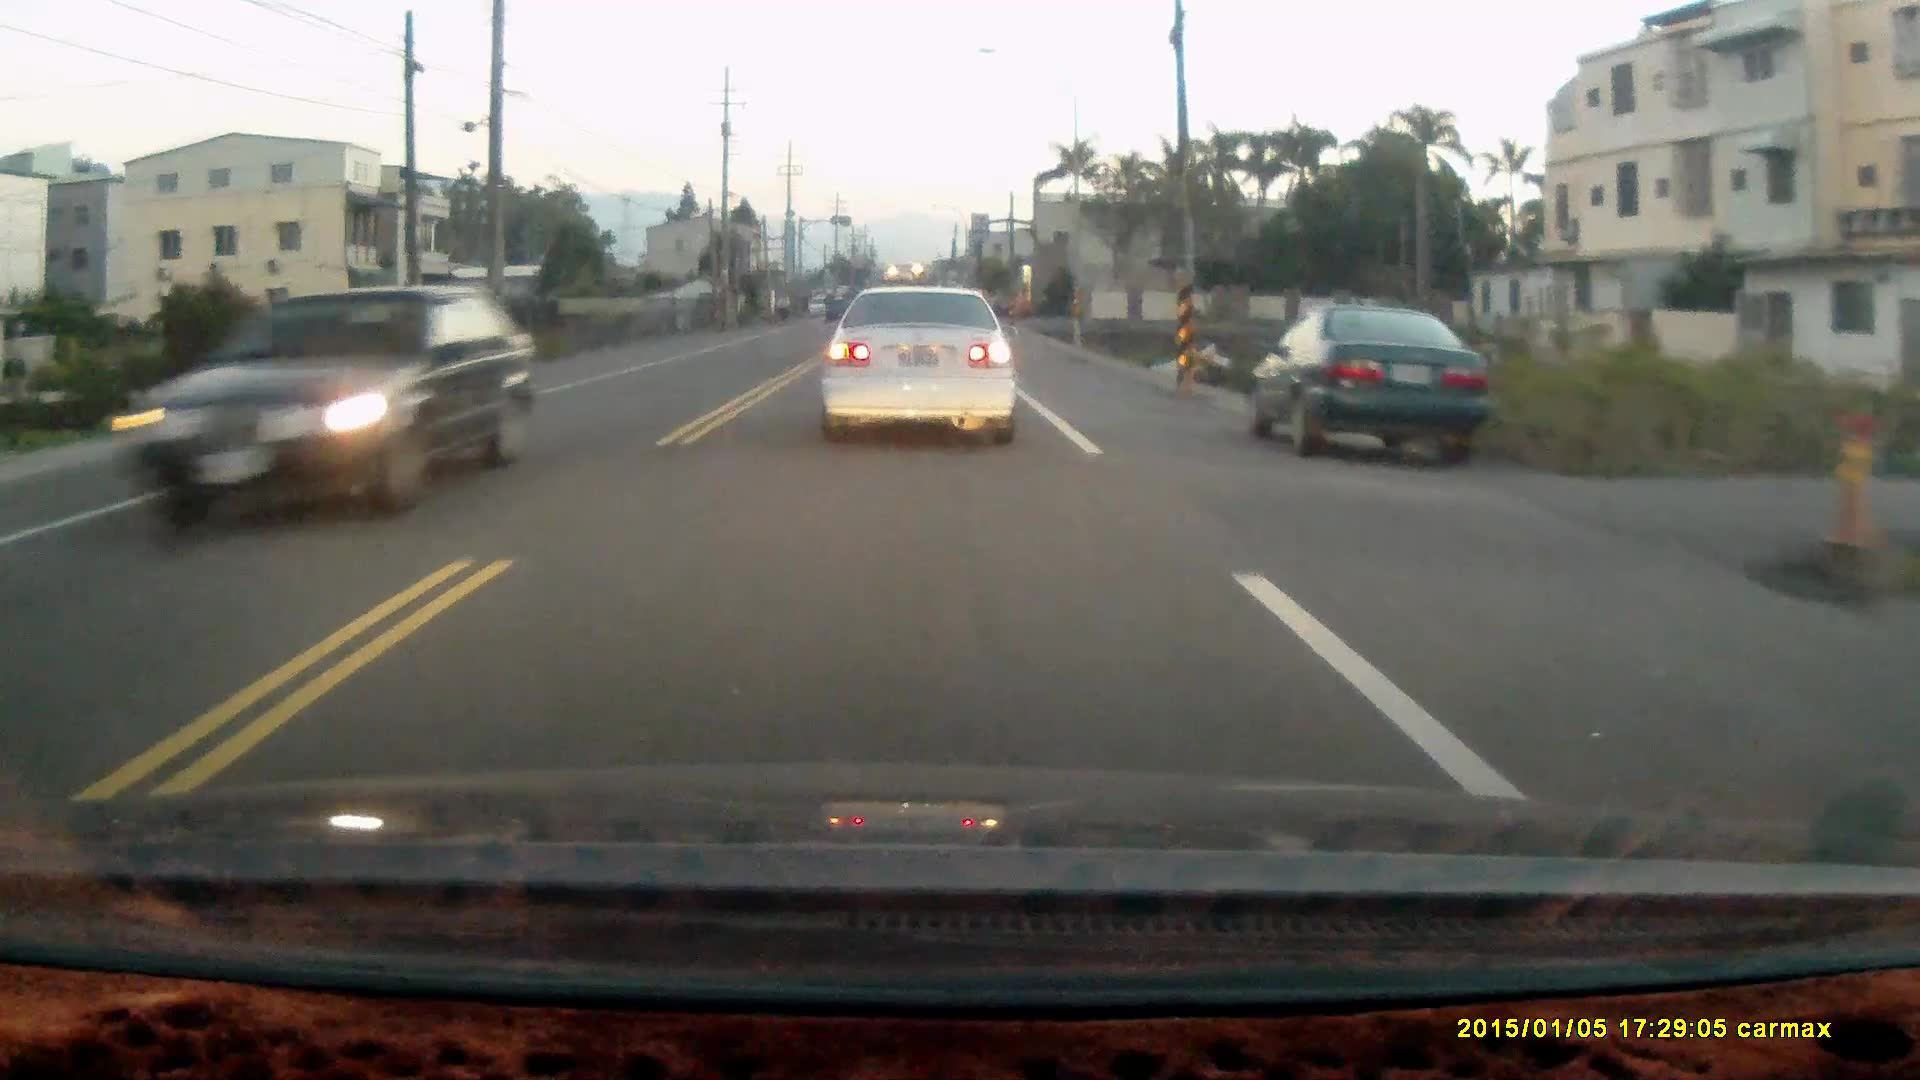vehicle: (123, 285, 535, 527), (1247, 302, 1489, 465), (819, 284, 1015, 444)
